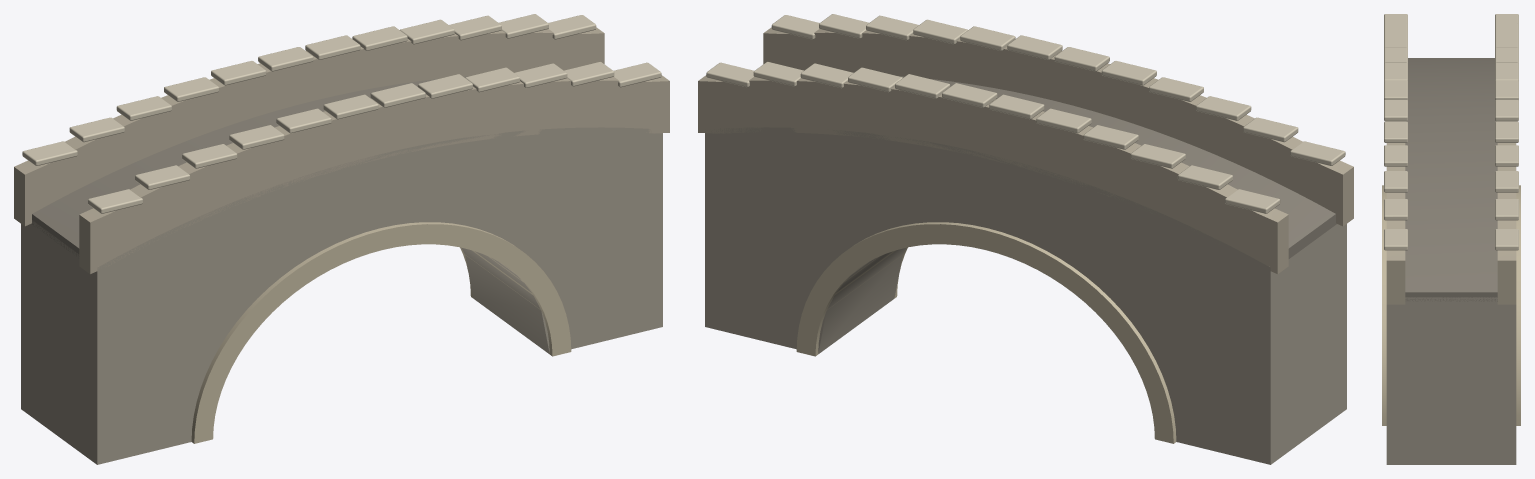
Rendered from original.glb.
3 renders of one model, left to right at view 1: azimuth 30°, elevation 25°; view 2: azimuth 150°, elevation 25°; view 3: azimuth 270°, elevation 25°, orthographic. The views are drawn at different scales.
Visible parts, largest first — view 1: Bridge body, Parapets, Parapet coping, Arch ring, Cobbled deck; view 2: Bridge body, Parapets, Parapet coping, Arch ring, Cobbled deck; view 3: Bridge body, Cobbled deck, Parapet coping, Parapets, Arch ring.
Boxes of the visible parts, box(x1,y1,x2,y2) form: Bridge body: box(21, 127, 662, 464); Parapets: box(14, 27, 669, 274); Parapet coping: box(22, 14, 661, 213); Arch ring: box(191, 222, 571, 443); Cobbled deck: box(32, 76, 469, 256); Bridge body: box(705, 127, 1346, 464); Parapets: box(698, 27, 1353, 274); Parapet coping: box(706, 14, 1345, 213); Arch ring: box(796, 222, 1176, 443); Cobbled deck: box(898, 76, 1336, 258); Bridge body: box(1386, 297, 1516, 464); Cobbled deck: box(1405, 58, 1497, 301); Parapet coping: box(1384, 14, 1518, 250); Parapets: box(1386, 143, 1516, 304); Arch ring: box(1382, 185, 1520, 425).
Size of the model in its own units: 12.3 by 5.95 by 3.
